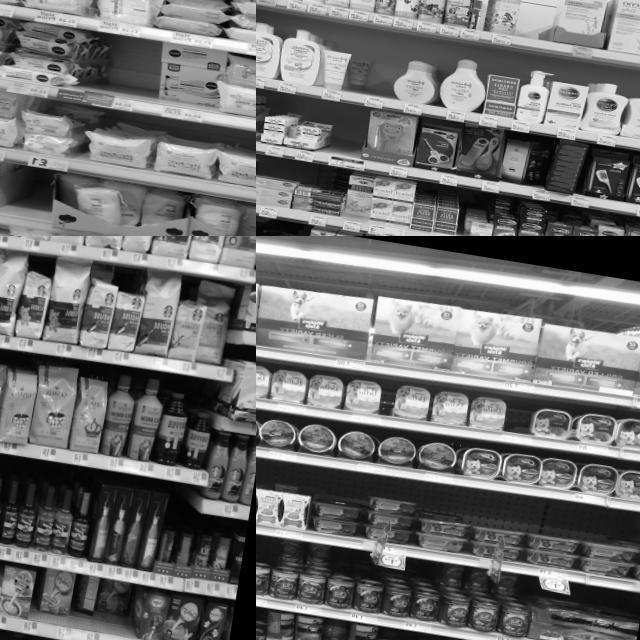empty: (97, 36, 160, 114), (326, 106, 368, 170), (363, 46, 398, 110), (14, 168, 51, 228), (512, 0, 548, 51), (501, 400, 534, 446)
